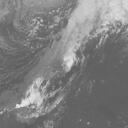cyclone: (32, 40, 86, 95)
